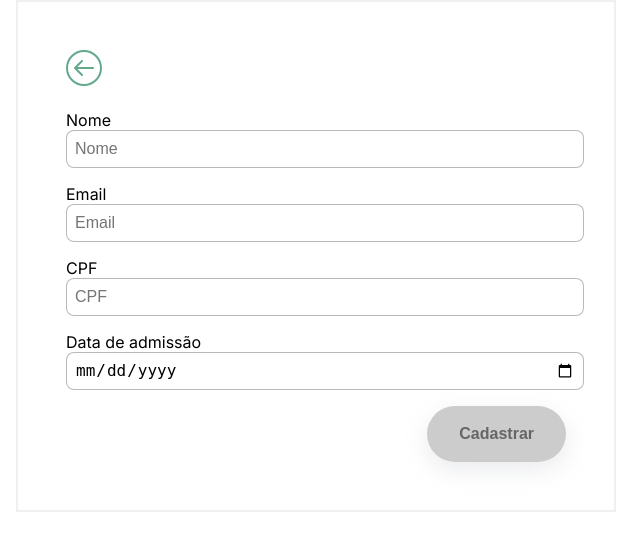
Test: NewUserPage › should display error message when CPF input changes and it is invalid
Type "123" into the field with placeholder "CPF" at [325, 297], box [66,278,584,316]
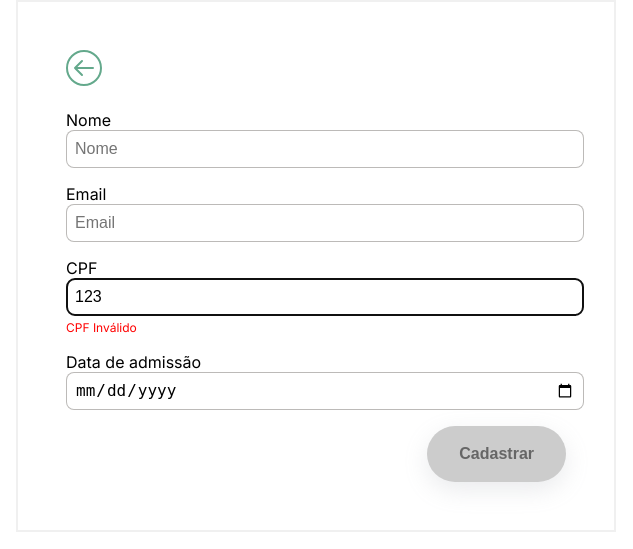
Result: the text "CPF Inválido" is shown at [66,320,137,335]
